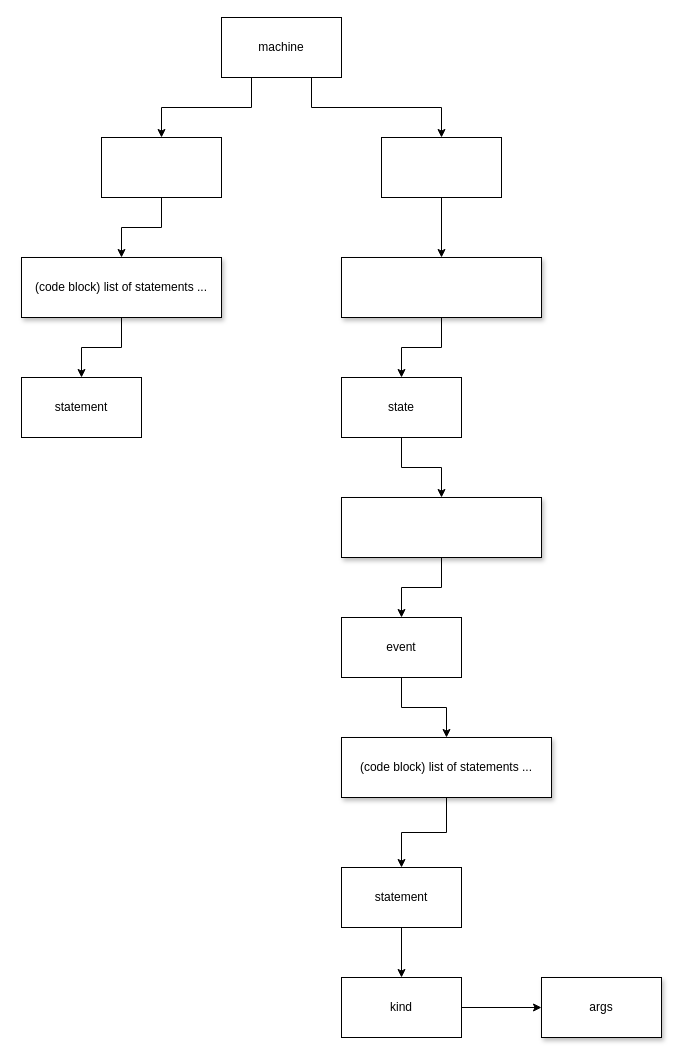
This 685x1062 diagram has some shape labels left out. The shapes that lost their labels are listed below. From the top down, each one's centre as x and y in pixels, then its label:
At pixel 161 167: "initiailly".
At pixel 441 167: "states".
At pixel 442 288: "(sate block) list of states ...".
At pixel 442 528: "(event block) list of events ...".
